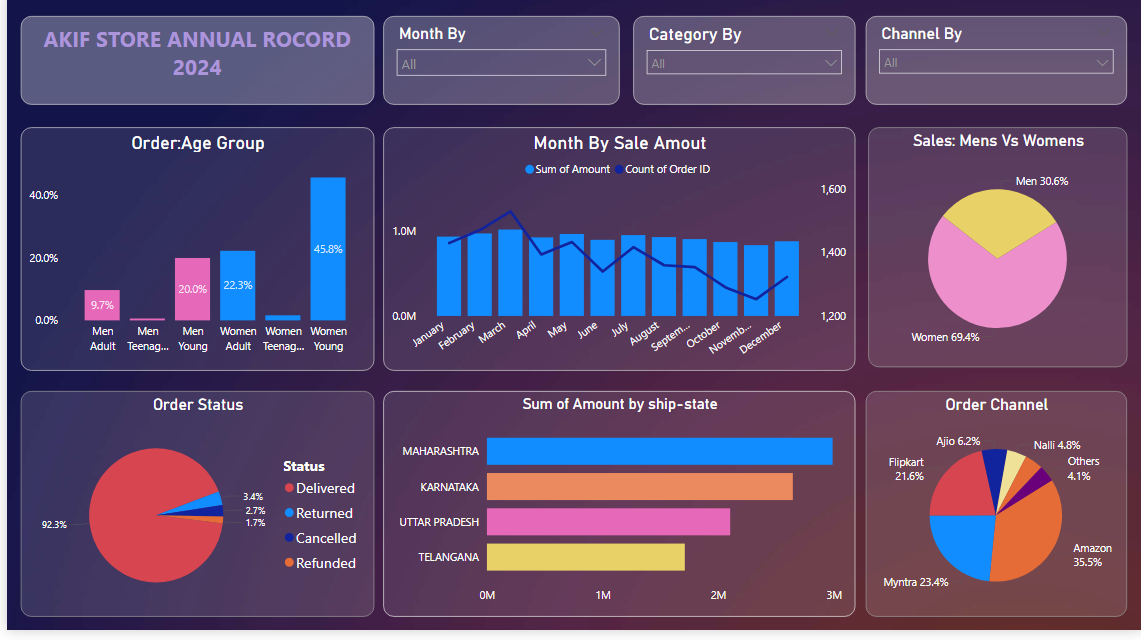

The dashboard page shown, as its layout file describes it:
{"tool":"powerbi","page":{"name":"Page 1","canvas":[1280,720],"ordinal":0},"visuals":[{"type":"pieChart","title":"Order Status","fields":{"Category":["Vrinda Store.Status"],"Y":["CountNonNull(Vrinda Store.Cust ID)"]},"box":[16,450,398,254],"z":0},{"type":"pieChart","title":"Sales: Mens Vs Womens","fields":{"Category":["Vrinda Store.Gender"],"Y":["CountNonNull(Vrinda Store.Cust ID)"]},"box":[970,154,292,270],"z":1000},{"type":"pieChart","title":"Order Channel","fields":{"Y":["CountNonNull(Vrinda Store.Cust ID)"],"Series":["Vrinda Store.Channel "],"Category":["Vrinda Store.Channel "]},"box":[968,450,294,254],"z":2000},{"type":"barChart","fields":{"Category":["Vrinda Store.ship-state"],"Y":["Sum(Vrinda Store.Amount)"]},"box":[424,450,532,254],"z":3000},{"type":"columnChart","title":"Order:Age Group","fields":{"Category":["Vrinda Store.Gender","Vrinda Store.Age-group"],"Y":["CountNonNull(Vrinda Store.Order ID)"],"Series":["Vrinda Store.Gender"]},"box":[16,154,398,274],"z":4000},{"type":"lineClusteredColumnComboChart","title":"Month By Sale Amout","fields":{"Category":["Vrinda Store.Date.Variation.Date Hierarchy.Month"],"Y":["Sum(Vrinda Store.Amount)"],"Y2":["CountNonNull(Vrinda Store.Order ID)"]},"box":[424,154,532,274],"z":5000},{"type":"slicer","fields":{"Values":["Vrinda Store.Category"]},"box":[706,28,250,100],"z":6000},{"type":"slicer","fields":{"Values":["Vrinda Store.Channel "]},"box":[968,28,294,100],"z":7000},{"type":"slicer","fields":{"Values":["Vrinda Store.Date.Variation.Date Hierarchy.Month"]},"box":[424,28,266,100],"z":8000},{"type":"textbox","box":[16,28,398,100],"z":8002}]}

Visuals, with their boxes in screenshot pixels (x1, y1, x2, y2), scaled from the page's 1280x720 canvas onto the 1141x640 screenshot:
"Order Status" pieChart: (left=14, top=400, right=369, bottom=626)
"Sales: Mens Vs Womens" pieChart: (left=865, top=137, right=1125, bottom=377)
"Order Channel" pieChart: (left=863, top=400, right=1125, bottom=626)
barChart - Vrinda Store.ship-state x Sum(Vrinda Store.Amount): (left=378, top=400, right=852, bottom=626)
"Order:Age Group" columnChart: (left=14, top=137, right=369, bottom=380)
"Month By Sale Amout" lineClusteredColumnComboChart: (left=378, top=137, right=852, bottom=380)
slicer - Vrinda Store.Category: (left=629, top=25, right=852, bottom=114)
slicer - Vrinda Store.Channel : (left=863, top=25, right=1125, bottom=114)
slicer - Vrinda Store.Date.Variation.Date Hierarchy.Month: (left=378, top=25, right=615, bottom=114)
textbox: (left=14, top=25, right=369, bottom=114)
